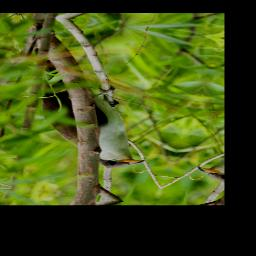Cuckoo: (0, 46, 190, 173)
